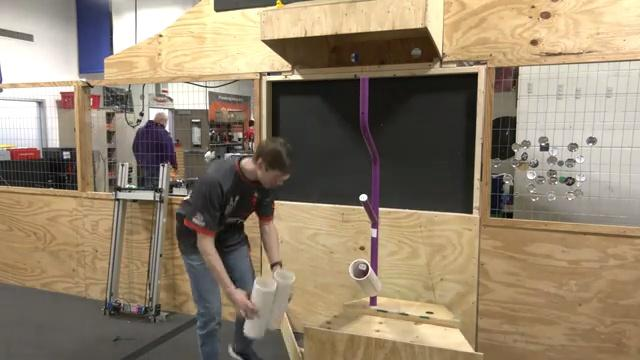CORAL: (243, 277, 277, 338), (269, 269, 296, 329), (348, 257, 381, 298)
